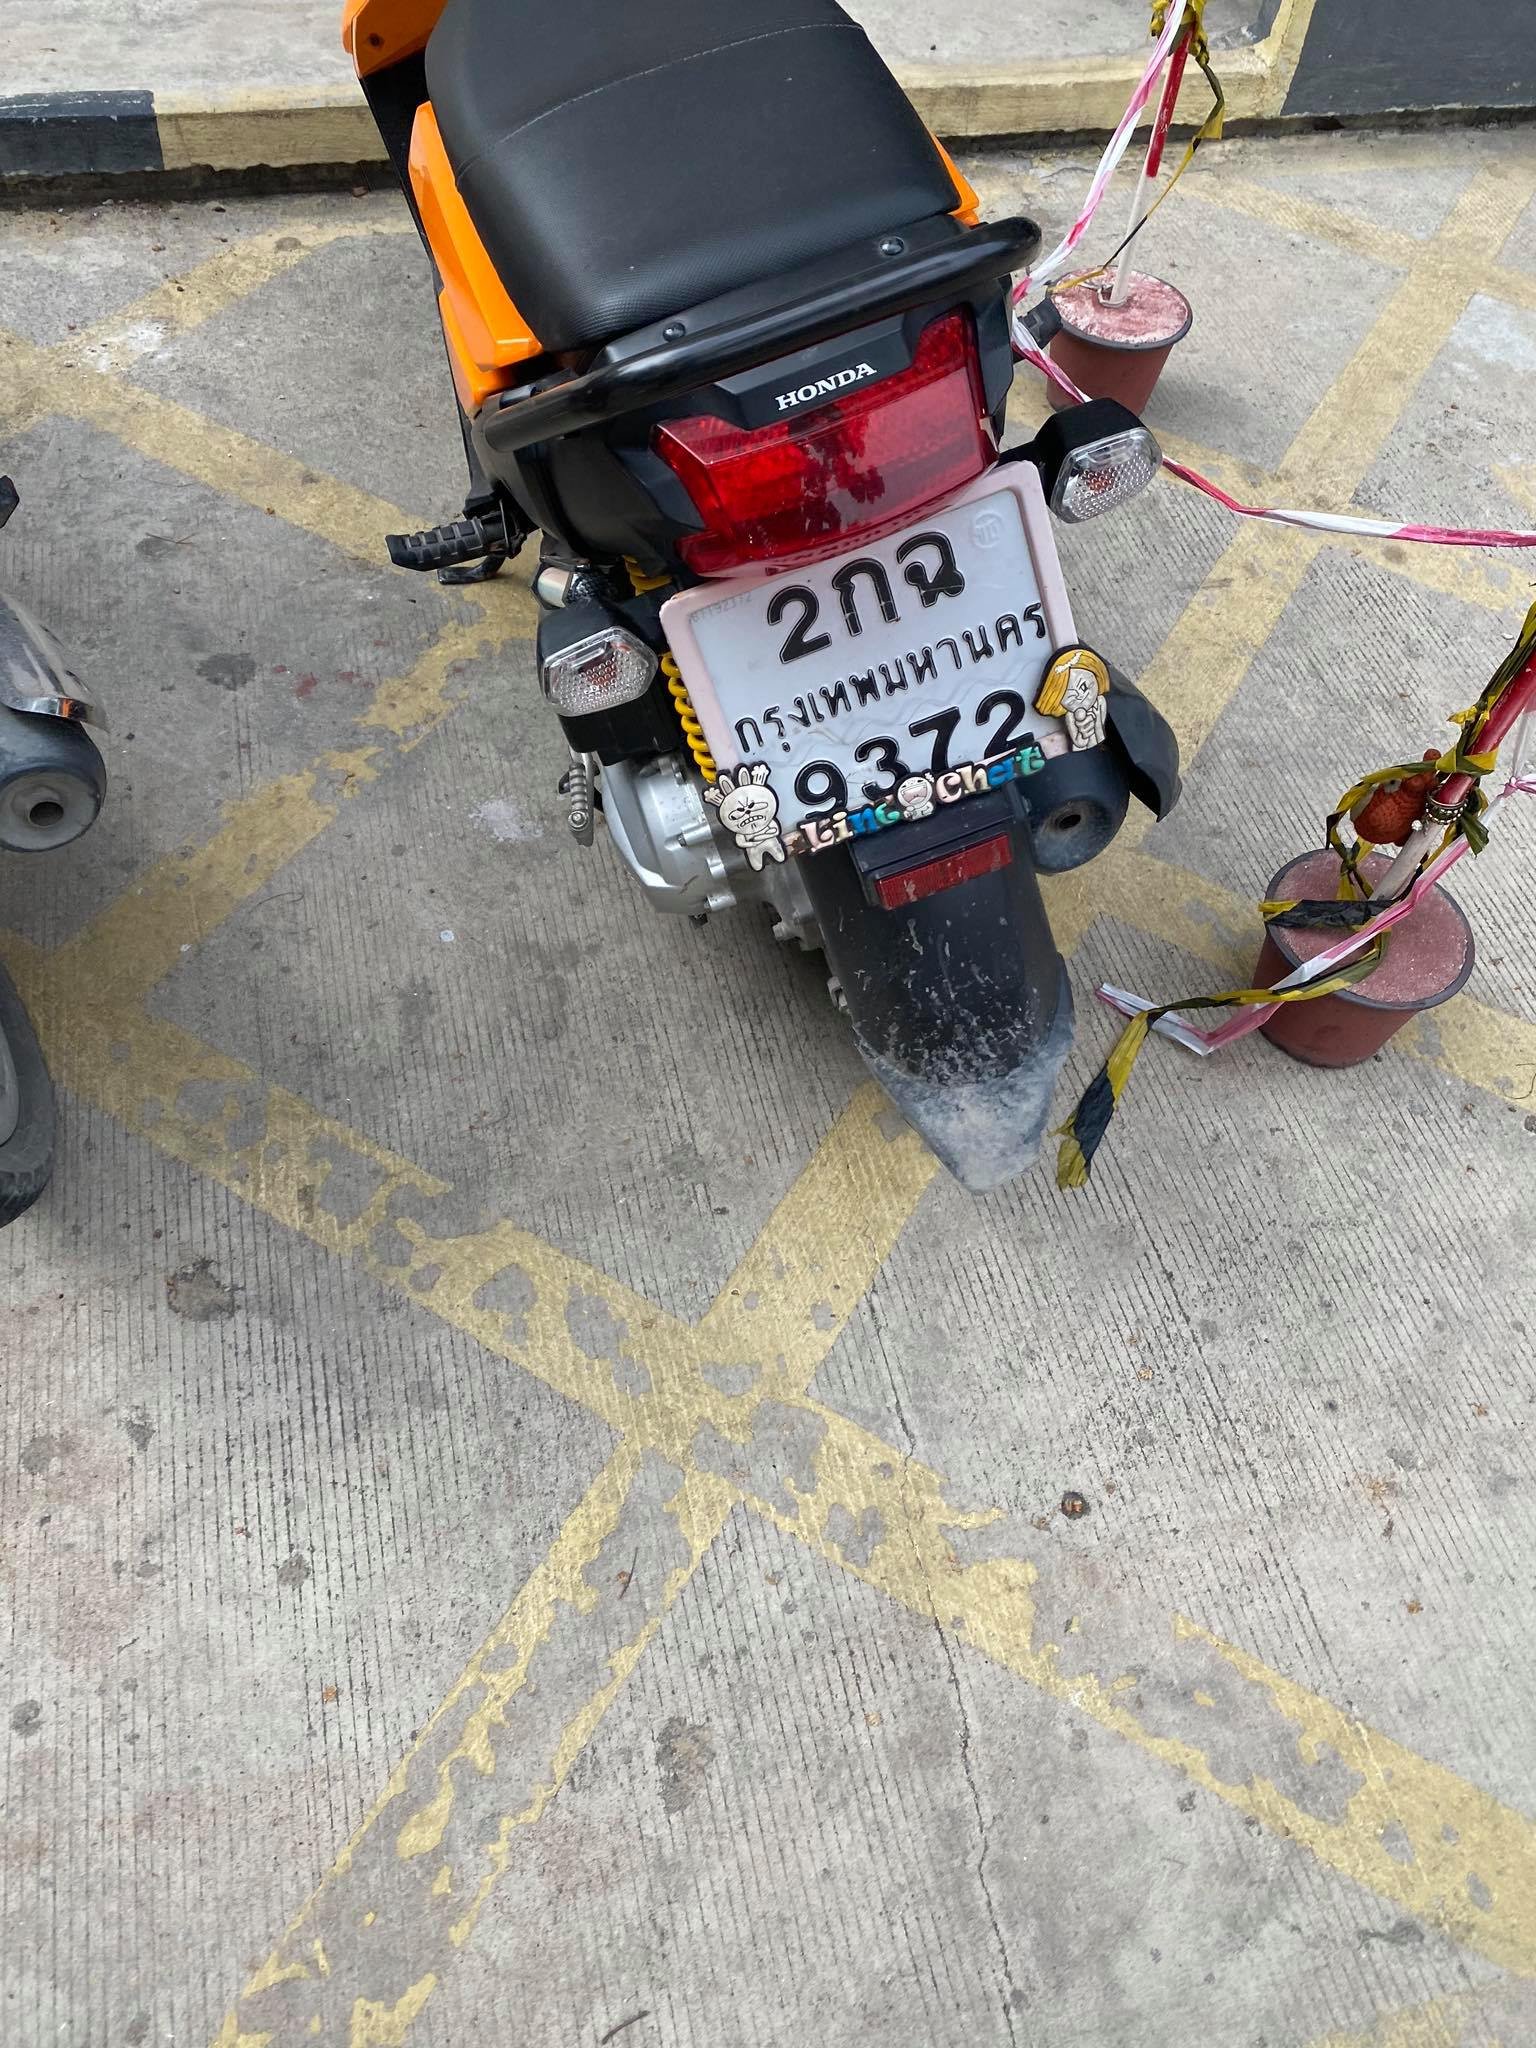line1: (763, 531, 970, 664)
line2: (724, 601, 1047, 751)
line3: (779, 692, 1044, 814)
